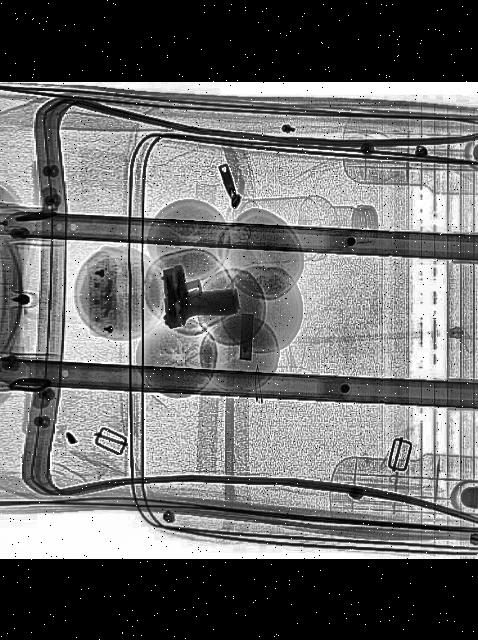Gun: (158, 258, 240, 328)
